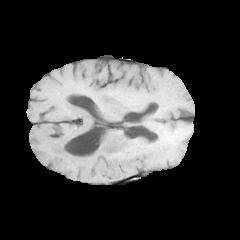glioma: (47, 116, 179, 179)
